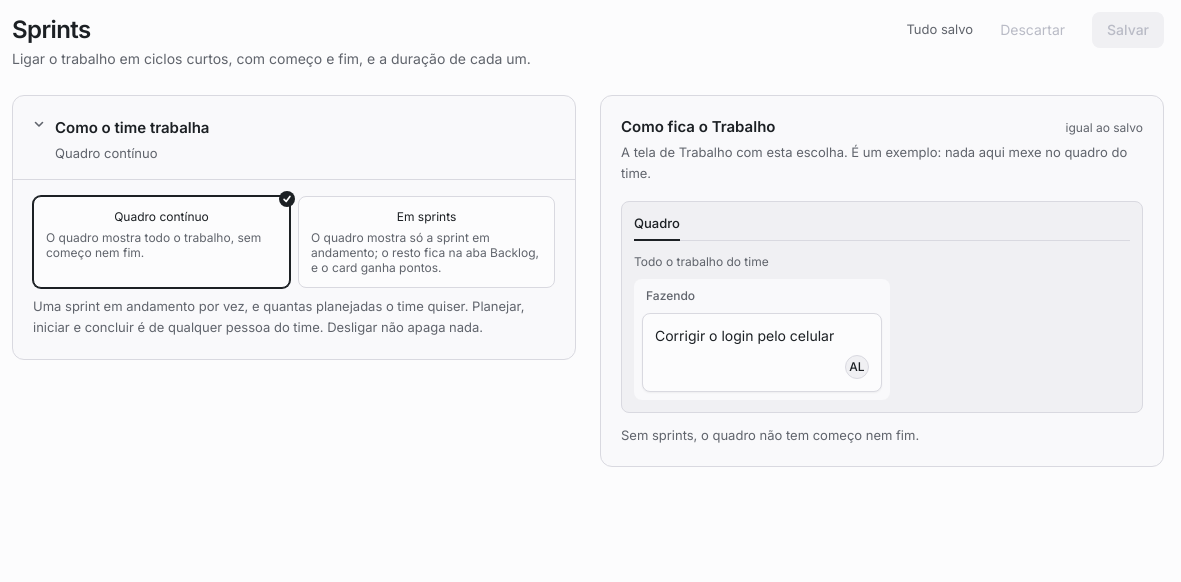
Test case: SprintSettingsScreen › um card só: a frase no singular
Click the radio button labelled "Em sprints": point(426, 242) [299,197,554,287]
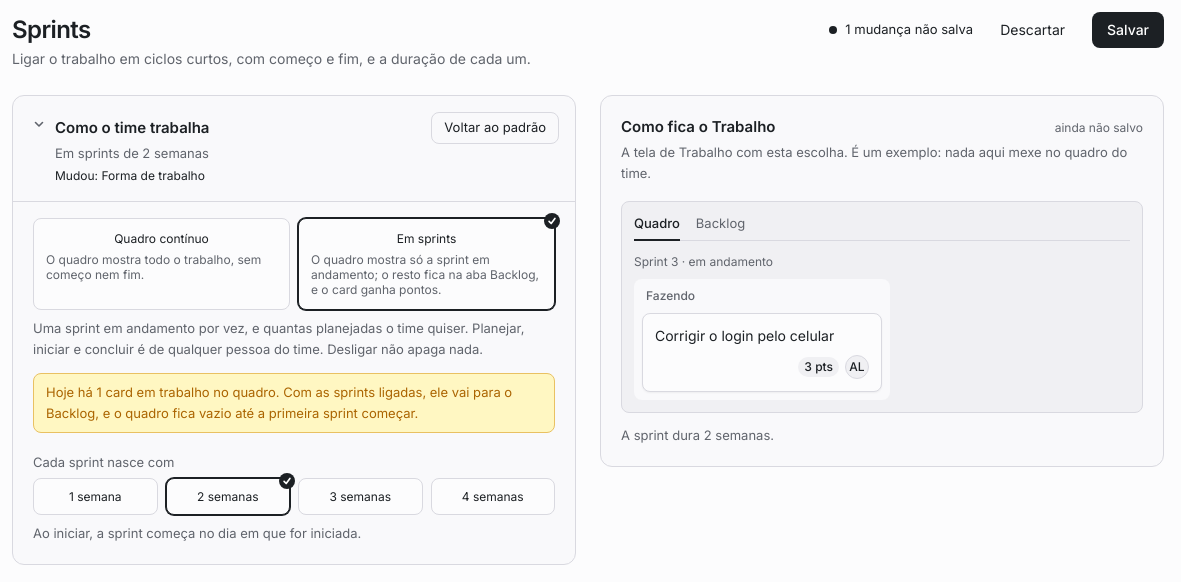
Expected: the text "Hoje há 1 card em trabalho no quadro" is shown, [46,384,512,421]
